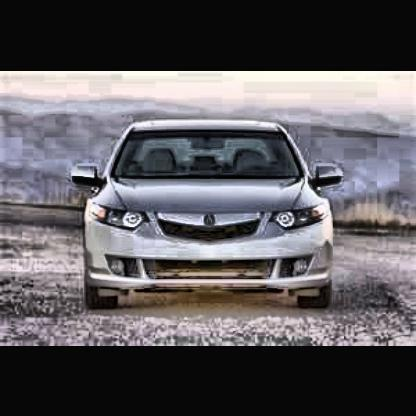Acura TSX Sedan 2012: (73, 119, 342, 311)
